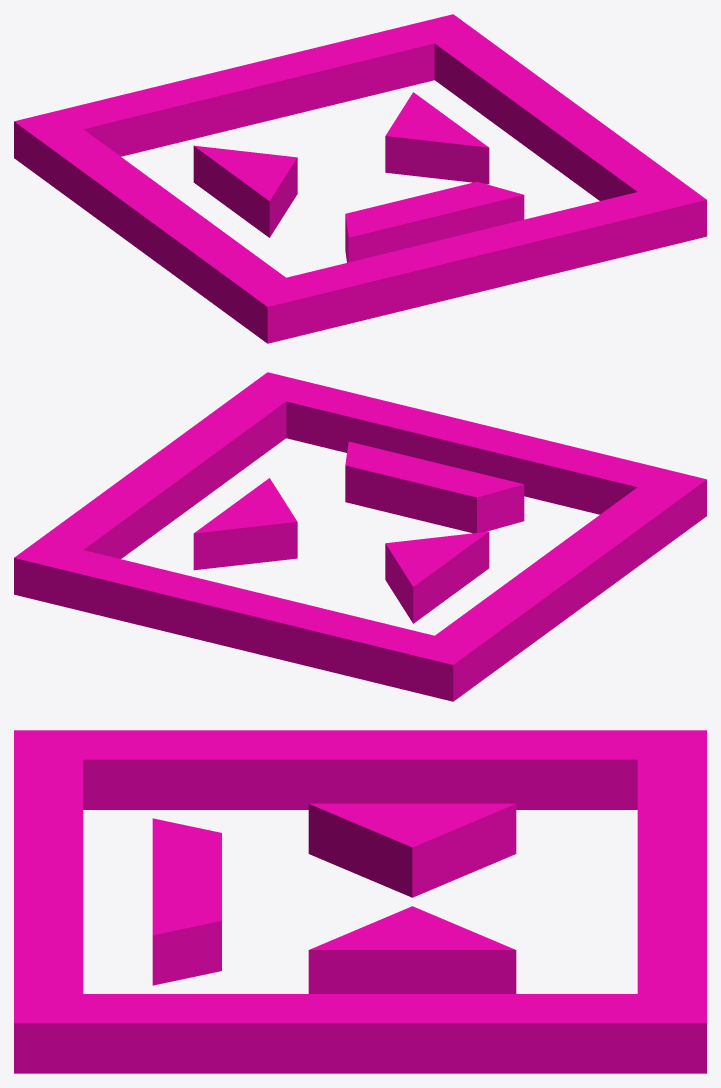
Rendered from pu_paddleMinus.fbx.
The picture shows the model from 3 angles, top to bottom: view 1: azimuth 30°, elevation 25°; view 2: azimuth 150°, elevation 25°; view 3: azimuth 270°, elevation 25°; orthographic projection. The views are drawn at different scales.
Parts seen in each view (by area): view 1: pu_paddleMinus; view 2: pu_paddleMinus; view 3: pu_paddleMinus.
Boxes of the visible parts, x1,y1,x2,y2 form: pu_paddleMinus: (14, 14, 706, 343); pu_paddleMinus: (14, 372, 706, 701); pu_paddleMinus: (14, 730, 706, 1073).
Bounding box in the file's own units: 1 × 0.08 × 1.
